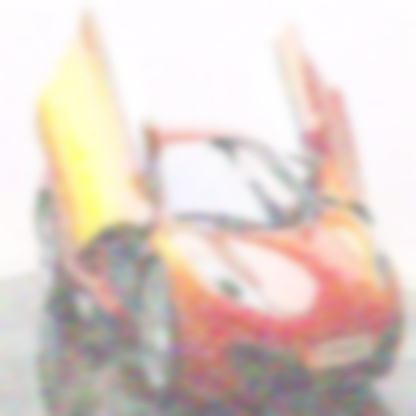Vehicle: (35, 6, 402, 414)
